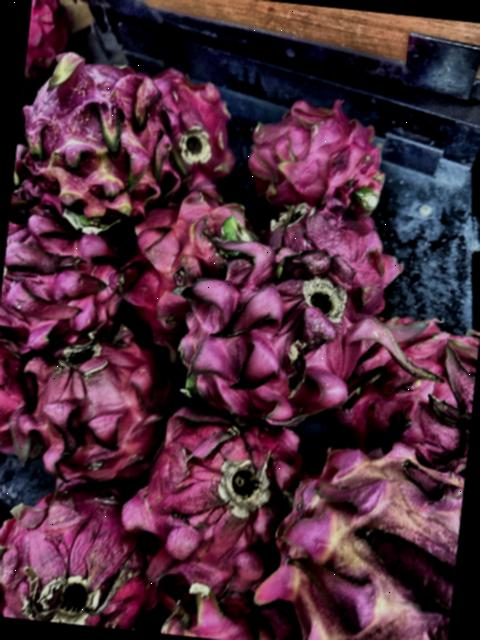buah-naga-belum-matang: (264, 448, 466, 640), (18, 66, 179, 216)
buah-naga-matang: (170, 232, 377, 421), (120, 394, 300, 592), (0, 482, 165, 632), (14, 331, 168, 482), (0, 201, 122, 351), (258, 198, 406, 321), (366, 312, 480, 471), (236, 99, 388, 214), (116, 187, 227, 336), (145, 66, 249, 191), (0, 332, 41, 458)
